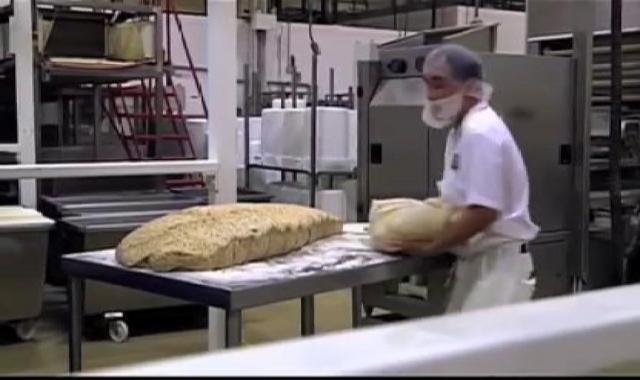hairnet: (420, 46, 502, 101)
